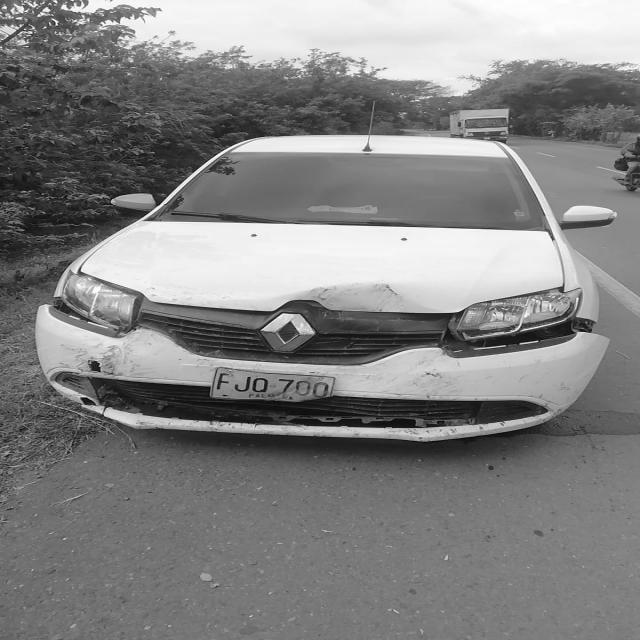plate: (209, 365, 339, 411)
